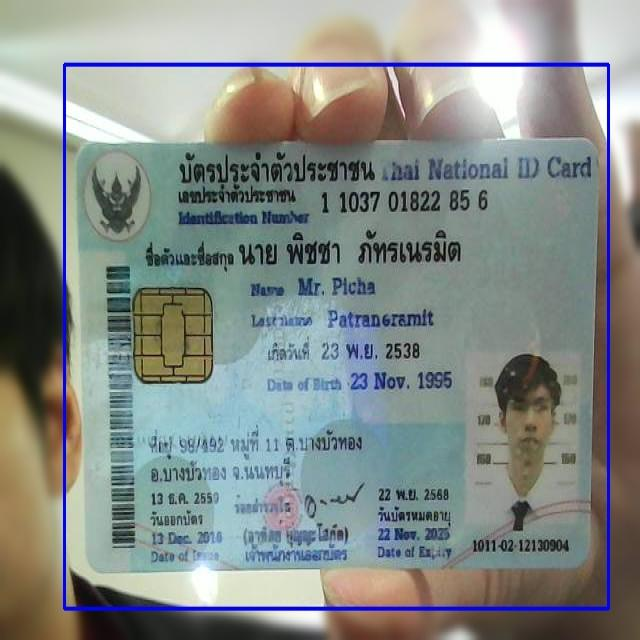Address_th: (144, 421, 382, 491)
Date_of_Birth: (348, 366, 457, 394)
Date_of_Expiry: (376, 523, 454, 548)
Date_of_Issue: (148, 528, 227, 549)
First_Name: (295, 269, 379, 300)
ID_Number: (318, 184, 492, 218)
Image: (468, 355, 582, 530)
Last_Name: (324, 303, 436, 332)
Thai_Name: (236, 227, 465, 280)
